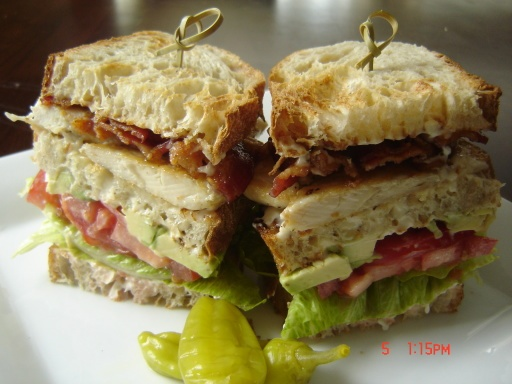background: (2, 17, 406, 230)
